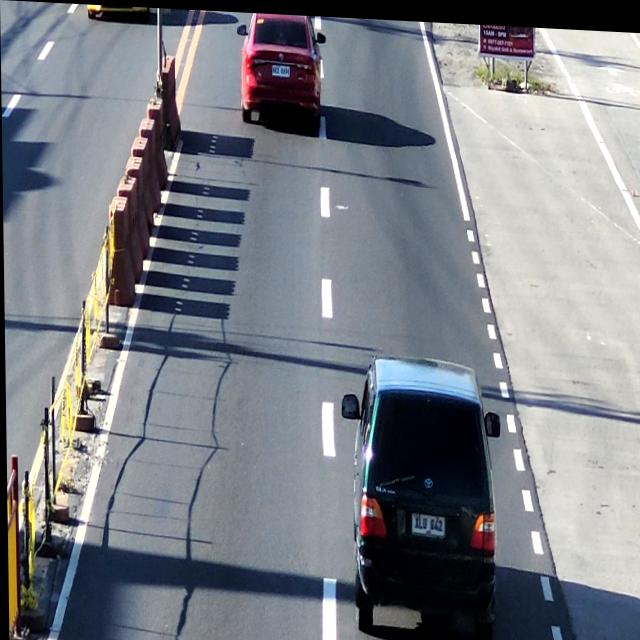Car: (343, 350, 503, 632), (236, 10, 325, 127), (269, 60, 291, 79)
